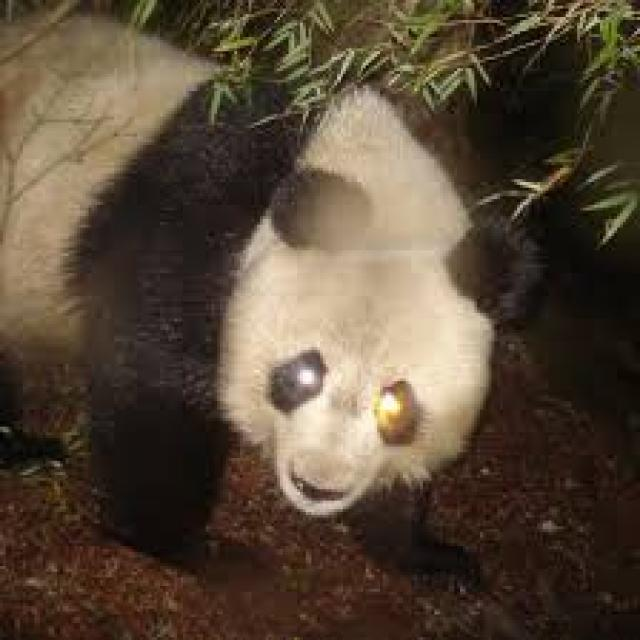Panda: (0, 1, 548, 580)
